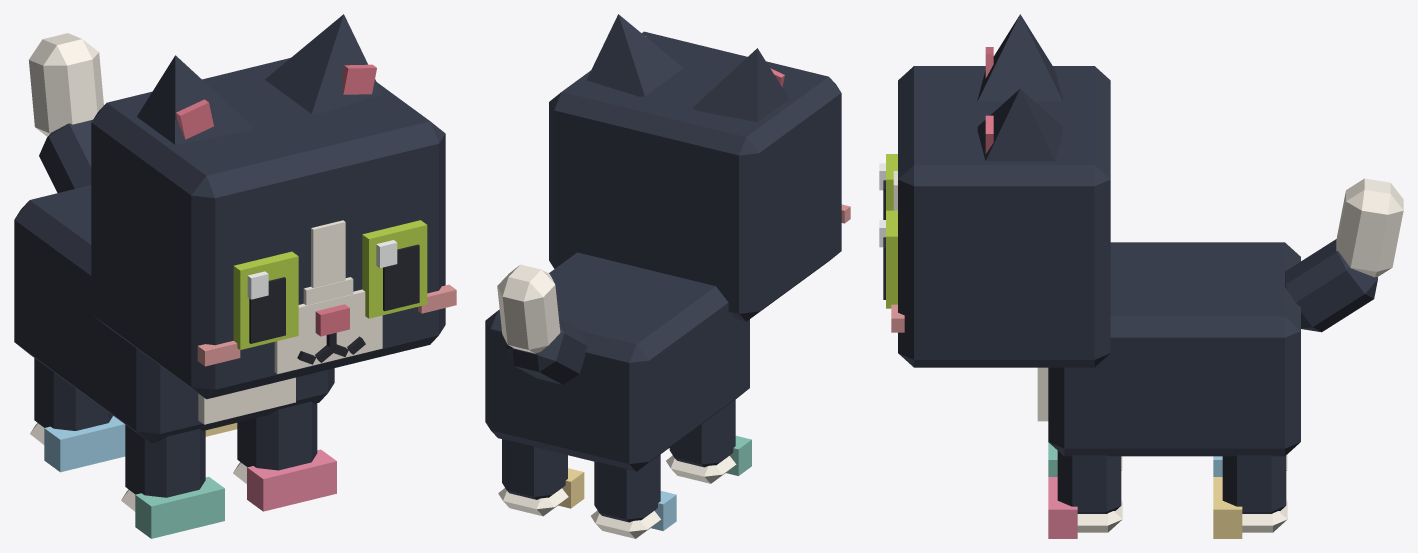
The model's file is CatCafe_Cat_Socks.fbx.
3 renders of one model, left to right at view 1: azimuth 30°, elevation 25°; view 2: azimuth 150°, elevation 25°; view 3: azimuth 270°, elevation 25°, orthographic. The views are drawn at different scales.
Visible parts, largest first — view 1: CatCafe_Cat_Socks_Head, CatCafe_Cat_Socks_Body, CatCafe_Cat_Socks_Tail, CatCafe_Cat_Socks_LegF2, CatCafe_Cat_Socks_LegF1, CatCafe_Cat_Socks_LegB2, CatCafe_Cat_Socks_EarL, CatCafe_Cat_Socks_Eye2, CatCafe_Cat_Socks_Eye1, CatCafe_Cat_Socks_EarR; view 2: CatCafe_Cat_Socks_Head, CatCafe_Cat_Socks_Body, CatCafe_Cat_Socks_Tail, CatCafe_Cat_Socks_LegB2, CatCafe_Cat_Socks_LegB1, CatCafe_Cat_Socks_EarL, CatCafe_Cat_Socks_LegF2, CatCafe_Cat_Socks_EarR; view 3: CatCafe_Cat_Socks_Head, CatCafe_Cat_Socks_Body, CatCafe_Cat_Socks_Tail, CatCafe_Cat_Socks_LegF1, CatCafe_Cat_Socks_LegB1, CatCafe_Cat_Socks_EarR, CatCafe_Cat_Socks_EarL, CatCafe_Cat_Socks_Eye1, CatCafe_Cat_Socks_Eye2.
Boxes of the visible parts, <box> form: CatCafe_Cat_Socks_Head: <box>91,58,456,399</box>; CatCafe_Cat_Socks_Body: <box>14,185,334,443</box>; CatCafe_Cat_Socks_Tail: <box>29,33,103,192</box>; CatCafe_Cat_Socks_LegF2: <box>121,424,224,538</box>; CatCafe_Cat_Socks_LegF1: <box>233,401,336,511</box>; CatCafe_Cat_Socks_LegB2: <box>30,358,125,472</box>; CatCafe_Cat_Socks_EarL: <box>265,14,382,113</box>; CatCafe_Cat_Socks_Eye2: <box>233,251,298,349</box>; CatCafe_Cat_Socks_Eye1: <box>362,220,427,318</box>; CatCafe_Cat_Socks_EarR: <box>137,55,253,144</box>; CatCafe_Cat_Socks_Head: <box>549,31,850,321</box>; CatCafe_Cat_Socks_Body: <box>485,252,749,471</box>; CatCafe_Cat_Socks_Tail: <box>497,264,587,384</box>; CatCafe_Cat_Socks_LegB2: <box>591,454,676,538</box>; CatCafe_Cat_Socks_LegB1: <box>498,439,584,516</box>; CatCafe_Cat_Socks_EarL: <box>586,14,683,96</box>; CatCafe_Cat_Socks_LegF2: <box>666,399,751,483</box>; CatCafe_Cat_Socks_EarR: <box>692,48,789,121</box>; CatCafe_Cat_Socks_Head: <box>891,66,1110,367</box>; CatCafe_Cat_Socks_Body: <box>1037,242,1300,456</box>; CatCafe_Cat_Socks_Tail: <box>1285,178,1403,332</box>; CatCafe_Cat_Socks_LegF1: <box>1048,451,1122,538</box>; CatCafe_Cat_Socks_LegB1: <box>1213,455,1287,538</box>; CatCafe_Cat_Socks_EarR: <box>977,14,1062,101</box>; CatCafe_Cat_Socks_EarL: <box>977,88,1062,161</box>; CatCafe_Cat_Socks_Eye1: <box>879,210,897,308</box>; CatCafe_Cat_Socks_Eye2: <box>879,154,897,219</box>.
Size of the model in its own units: 1 by 1.86 by 1.97.
1 material, 1 textured.
